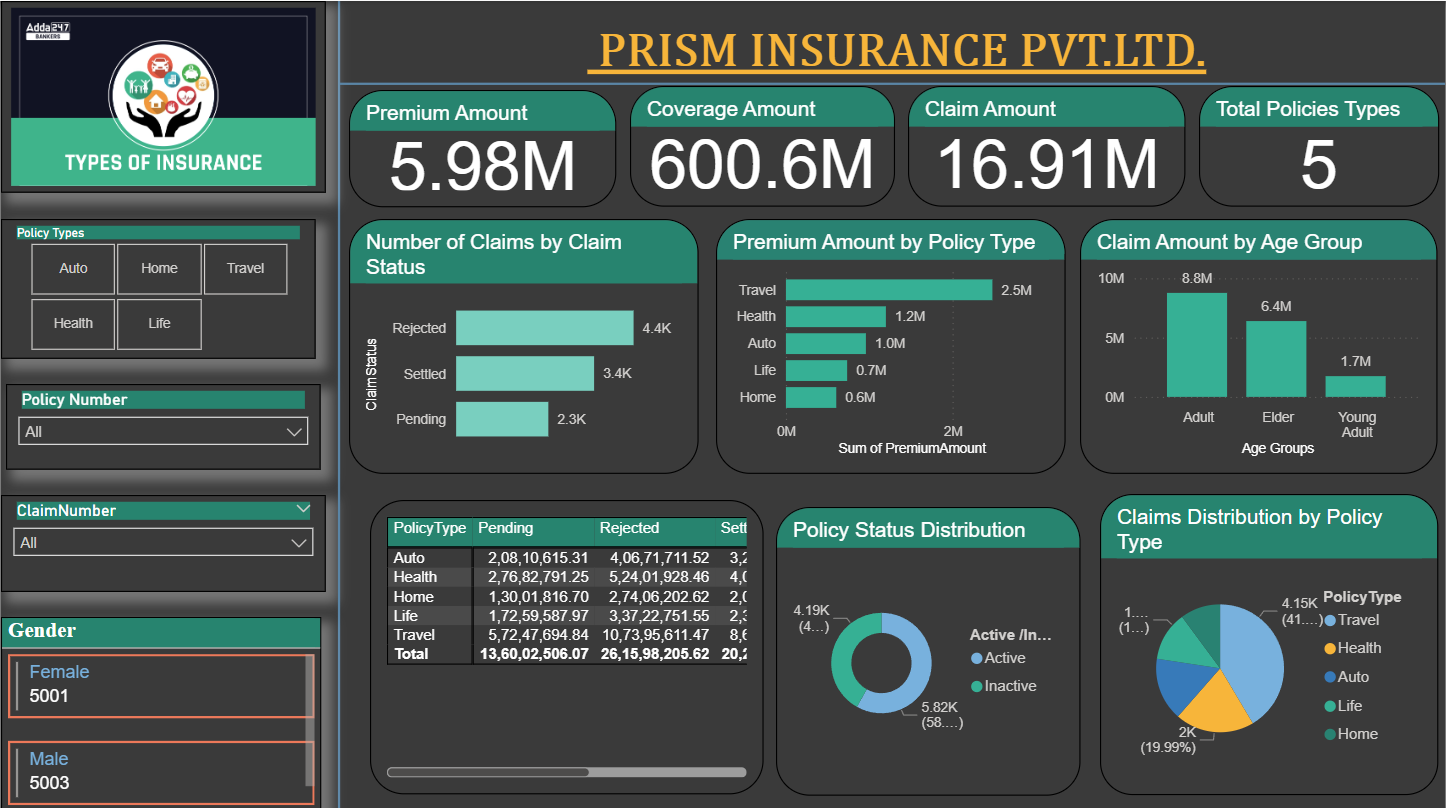

The dashboard page shown, as its layout file describes it:
{"tool":"powerbi","page":{"name":"Dashboard 1","canvas":[1280,720],"ordinal":0},"visuals":[{"type":"slicer","title":"Policy Types","fields":{"Values":["InsuranceData (1).PolicyType"]},"box":[0,193,278.9,123.9],"z":0},{"type":"textbox","box":[308.7,16.5,971.5,61.7],"z":1000},{"type":"slicer","title":"Policy Number","fields":{"Values":["InsuranceData (1).PolicyNumber"]},"box":[4.3,339.5,279.4,75.5],"z":2000},{"type":"slicer","title":"Claim Number ","fields":{"Values":["InsuranceData (1).ClaimNumber"]},"box":[0,437.7,287.9,85.5],"z":3000},{"type":"card","title":"Premium Amount","fields":{"Values":["Sum(InsuranceData (1).PremiumAmount)"]},"box":[308.6,78.6,237.1,104.3],"z":4000},{"type":"shape","box":[190.7,0,218.2,719],"z":5000},{"type":"card","title":"Claim Amount","fields":{"Values":["Sum(InsuranceData (1).ClaimAmount)"]},"box":[804.6,75.5,245.6,107],"z":6000},{"type":"card","title":"Coverage Amount","fields":{"Values":["Sum(InsuranceData (1).CoverageAmount)"]},"box":[558,75.5,234.6,107],"z":7000},{"type":"multiRowCard","title":"Gender ","fields":{"Values":["InsuranceData (1).Gender","CountNonNull(InsuranceData (1).Gender)"]},"box":[0,545.9,283.7,172.5],"z":8000},{"type":"image","box":[0,0,288.2,170.2],"z":9000},{"type":"shape","box":[300.5,0,979.8,146.8],"z":10000},{"type":"clusteredBarChart","title":"Number of Claims by Claim Status","fields":{"Category":["InsuranceData (1).ClaimStatus"],"Y":["CountNonNull(InsuranceData (1).ClaimStatus)"]},"box":[308.6,192.9,310,225.7],"z":11000},{"type":"barChart","title":"Premium Amount by Policy Type","fields":{"Category":["InsuranceData (1).PolicyType"],"Y":["Sum(InsuranceData (1).PremiumAmount)"]},"box":[634.3,192.9,310,225.7],"z":12000},{"type":"clusteredColumnChart","title":" Claim Amount by Age Group","fields":{"Category":["InsuranceData (1).Age Groups"],"Y":["Sum(InsuranceData (1).ClaimAmount)"]},"box":[957.1,192.9,317.1,225.7],"z":13000},{"type":"donutChart","title":"Policy Status Distribution","fields":{"Category":["InsuranceData (1).Active /Inactive "],"Y":["CountNonNull(InsuranceData (1).Active /Inactive )"]},"box":[687.1,448.6,270,255.7],"z":14000},{"type":"pivotTable","fields":{"Rows":["InsuranceData (1).PolicyType"],"Values":["Sum(InsuranceData (1).CoverageAmount)"],"Columns":["InsuranceData (1).ClaimStatus"]},"box":[327.1,442.9,348.6,261.4],"z":15000},{"type":"card","title":"Total Policies Types","fields":{"Values":["Count(InsuranceData (1).PolicyType)"]},"box":[1062.1,75.5,212.7,107],"z":16000},{"type":"pieChart","title":"Claims Distribution by Policy Type","fields":{"Category":["InsuranceData (1).PolicyType"],"Y":["CountNonNull(InsuranceData (1).ClaimStatus)"]},"box":[974.3,437.1,300,267.1],"z":17000}]}

Visuals, with their boxes in screenshot pixels (x1, y1, x2, y2), scaled from the page's 1280x720 canvas onto the 1446x808 screenshot:
"Policy Types" slicer: bbox(0, 217, 315, 356)
textbox: bbox(349, 19, 1445, 88)
"Policy Number" slicer: bbox(5, 381, 320, 466)
"Claim Number " slicer: bbox(0, 491, 325, 587)
"Premium Amount" card: bbox(349, 88, 616, 205)
shape: bbox(215, 0, 462, 807)
"Claim Amount" card: bbox(909, 85, 1186, 205)
"Coverage Amount" card: bbox(630, 85, 895, 205)
"Gender " multiRowCard: bbox(0, 613, 320, 806)
image: bbox(0, 0, 326, 191)
shape: bbox(339, 0, 1445, 165)
"Number of Claims by Claim Status" clusteredBarChart: bbox(349, 216, 699, 470)
"Premium Amount by Policy Type" barChart: bbox(717, 216, 1067, 470)
" Claim Amount by Age Group" clusteredColumnChart: bbox(1081, 216, 1439, 470)
"Policy Status Distribution" donutChart: bbox(776, 503, 1081, 790)
pivotTable - InsuranceData (1).PolicyType x Sum(InsuranceData (1).CoverageAmount): bbox(370, 497, 763, 790)
"Total Policies Types" card: bbox(1200, 85, 1440, 205)
"Claims Distribution by Policy Type" pieChart: bbox(1101, 491, 1440, 790)
